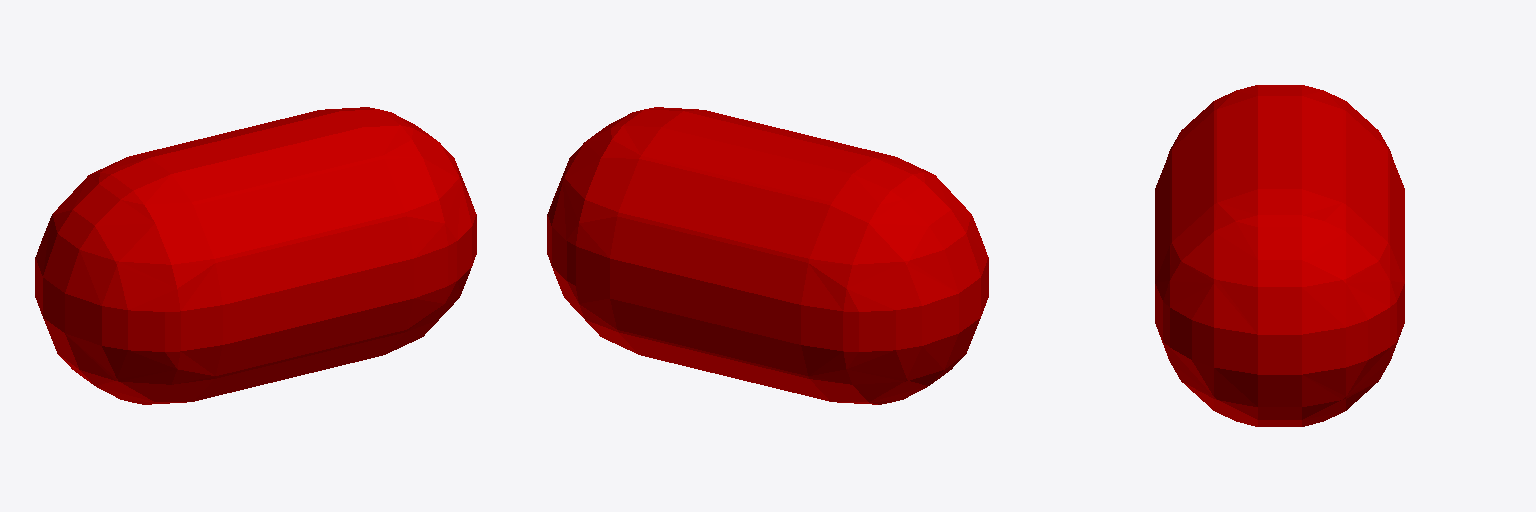
3 renders of one model, left to right at view 1: azimuth 30°, elevation 25°; view 2: azimuth 150°, elevation 25°; view 3: azimuth 270°, elevation 25°, orthographic.
Parts seen in each view (by area): view 1: Mball; view 2: Mball; view 3: Mball.
Boxes of the visible parts, box(x1,y1,x2,y2) form: Mball: box(35, 107, 476, 404); Mball: box(547, 107, 988, 404); Mball: box(1155, 85, 1404, 426).
Size of the model in its own units: 4.23 by 2.27 by 2.27.